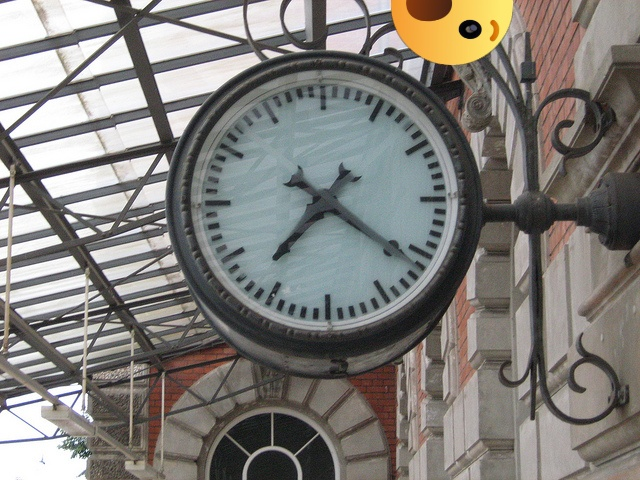wow: (391, 0, 513, 65)
